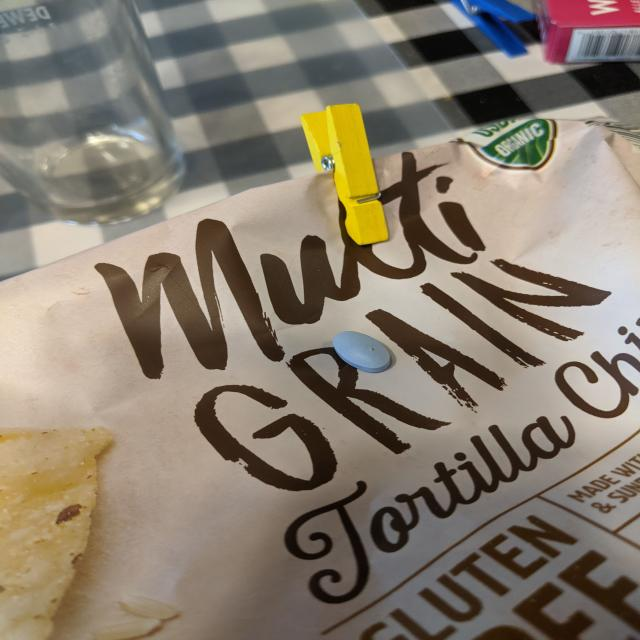non-organic waste: (332, 329, 392, 374)
